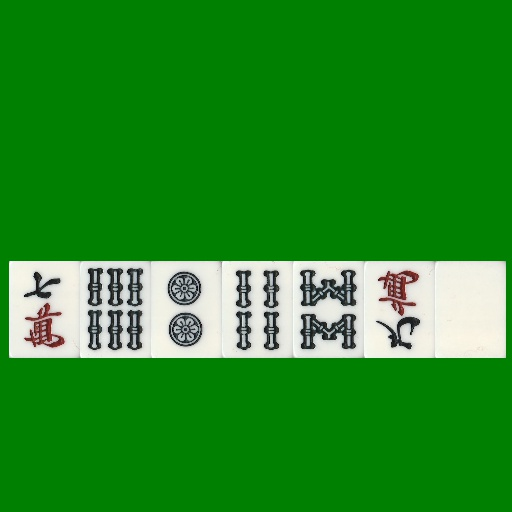2p: (151, 261, 222, 358)
4s: (222, 261, 293, 358)
6s: (80, 261, 151, 358)
7m: (9, 261, 80, 358)
8s: (293, 261, 364, 358)
9m: (364, 261, 435, 358)
white: (435, 261, 506, 358)
